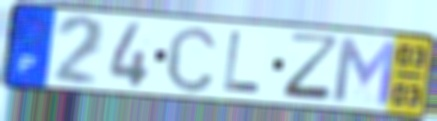2: (52, 13, 107, 88)
4: (106, 20, 151, 89)
C: (163, 23, 220, 95)
L: (221, 29, 263, 96)
M: (331, 34, 400, 109)
Z: (280, 31, 344, 106)
